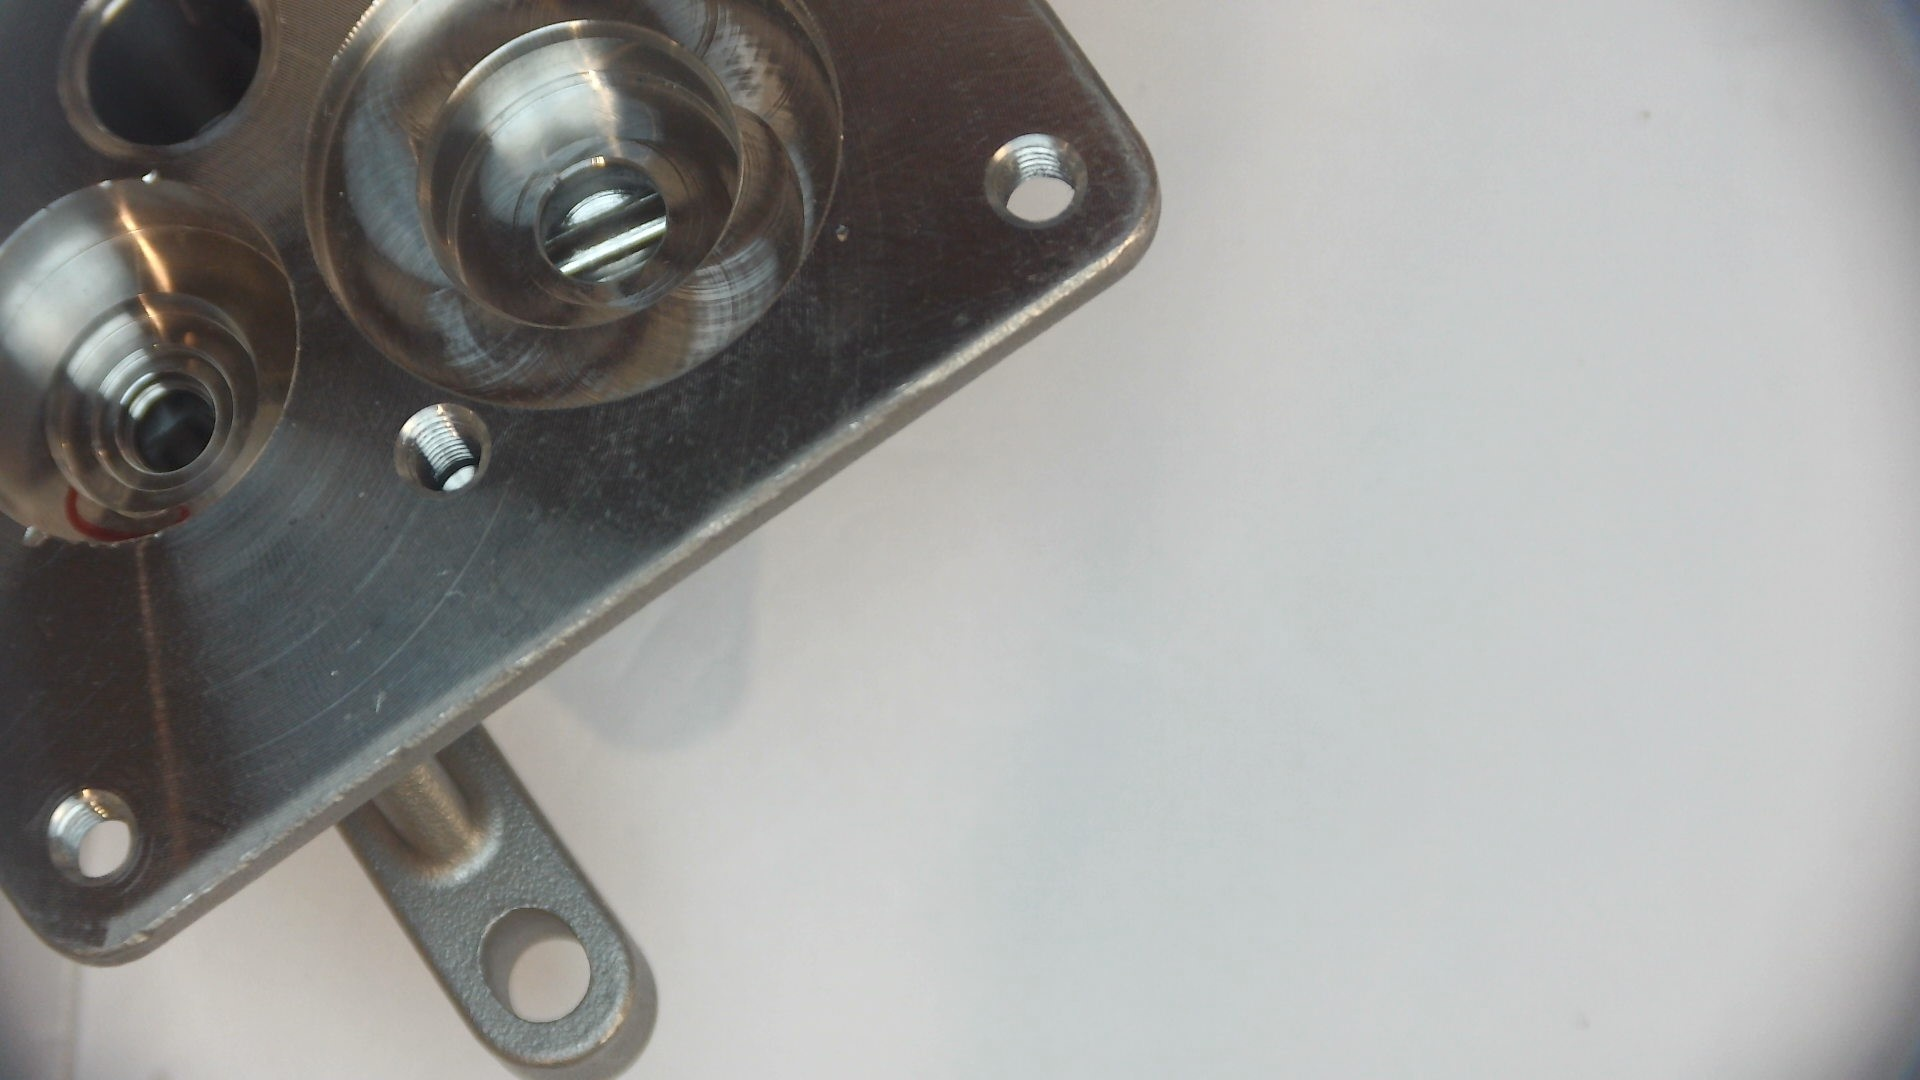dent: (112, 918, 154, 955), (18, 520, 51, 553), (833, 220, 855, 245), (369, 688, 390, 712), (327, 666, 343, 680), (355, 487, 368, 502)
thread_presence: (45, 786, 124, 876), (402, 410, 483, 492), (990, 142, 1080, 203)
